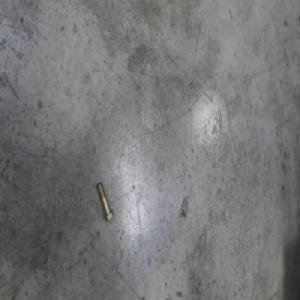Bolt: (95, 180, 113, 222)
